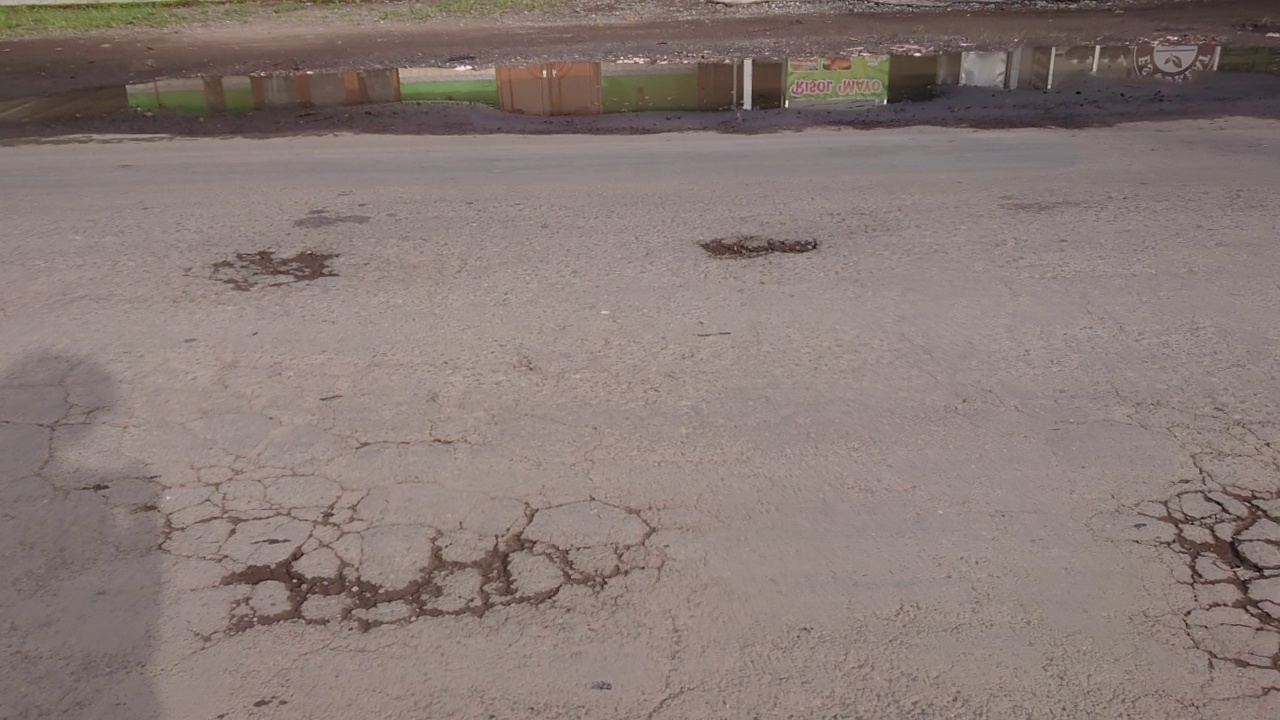Retak: (204, 520, 667, 614), (1130, 491, 1280, 694), (179, 222, 340, 295), (699, 224, 812, 271)
